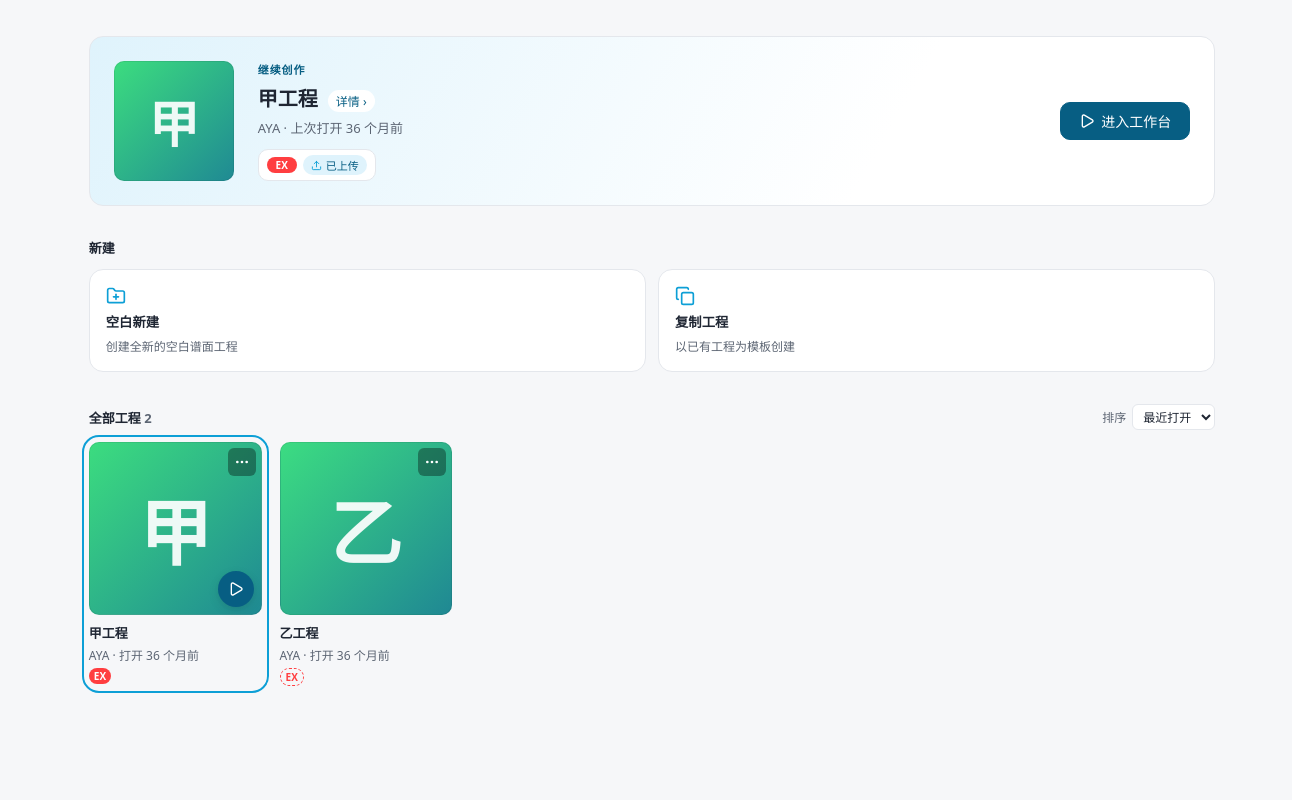
Test case: 票 15 · 工程详情音频行（只读展示 + 带作用域跳转） › 只读展示文件名与时长，不给任何管理控件
Expected: the element showing "甲 甲工程 AYA · 打开 36 个月前 EX" is shown, [89,442,262,686]
Click the text "甲工程" at coordinates (108, 633), box [89,624,128,642]
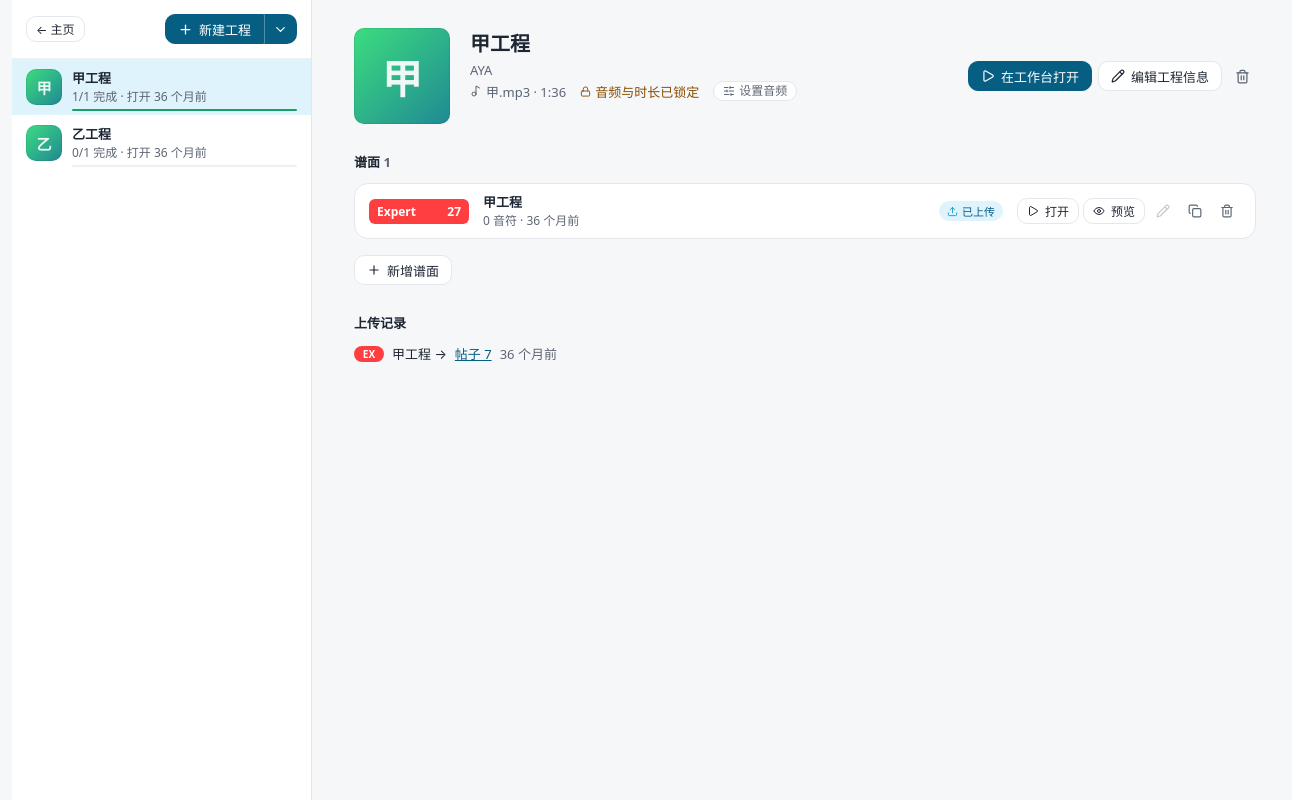
Now the text "甲.mp3 · 1:36 音频与时长已锁定 设置音频" is shown, box [470,81,797,101]
